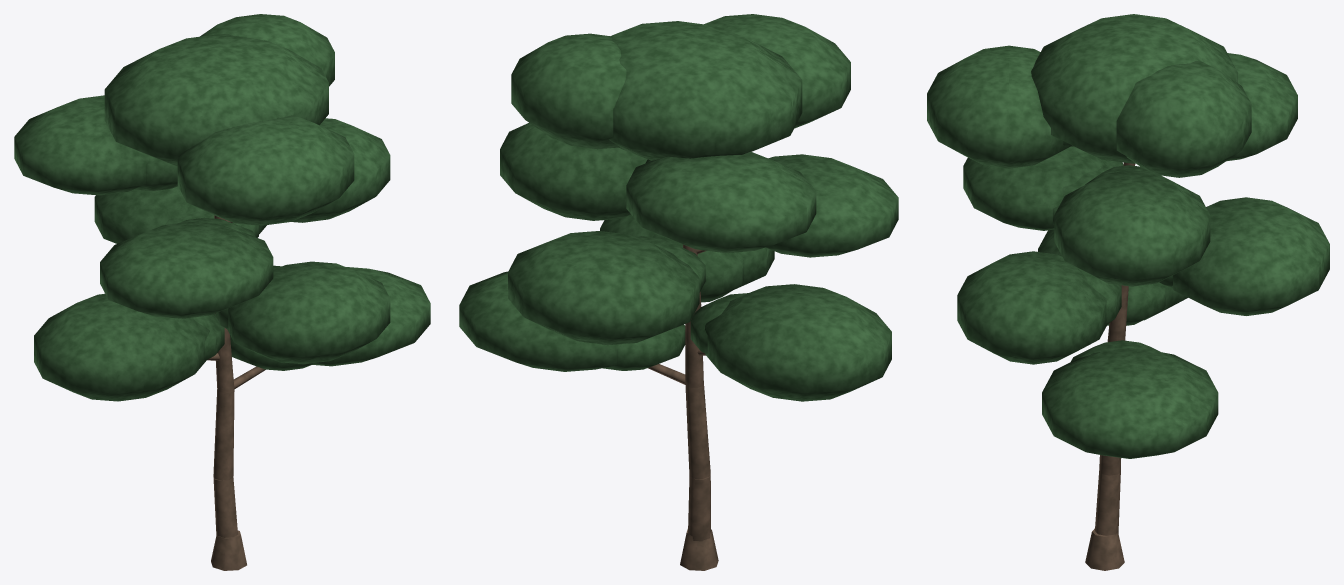
The model's file is IlsanPine01_LOD1.fbx.
The picture shows the model from 3 angles, left to right: view 1: azimuth 30°, elevation 25°; view 2: azimuth 150°, elevation 25°; view 3: azimuth 270°, elevation 25°; orthographic projection. The views are drawn at different scales.
Visible parts, largest first — view 1: IlsanPine01_LOD1; view 2: IlsanPine01_LOD1; view 3: IlsanPine01_LOD1.
Boxes of the visible parts, x1,y1,x2,y2 form: IlsanPine01_LOD1: (14, 14, 430, 570); IlsanPine01_LOD1: (459, 14, 898, 570); IlsanPine01_LOD1: (927, 14, 1329, 570).
Bounding box in the file's own units: 6.76 × 8.46 × 5.85.
1 material, 1 textured.
